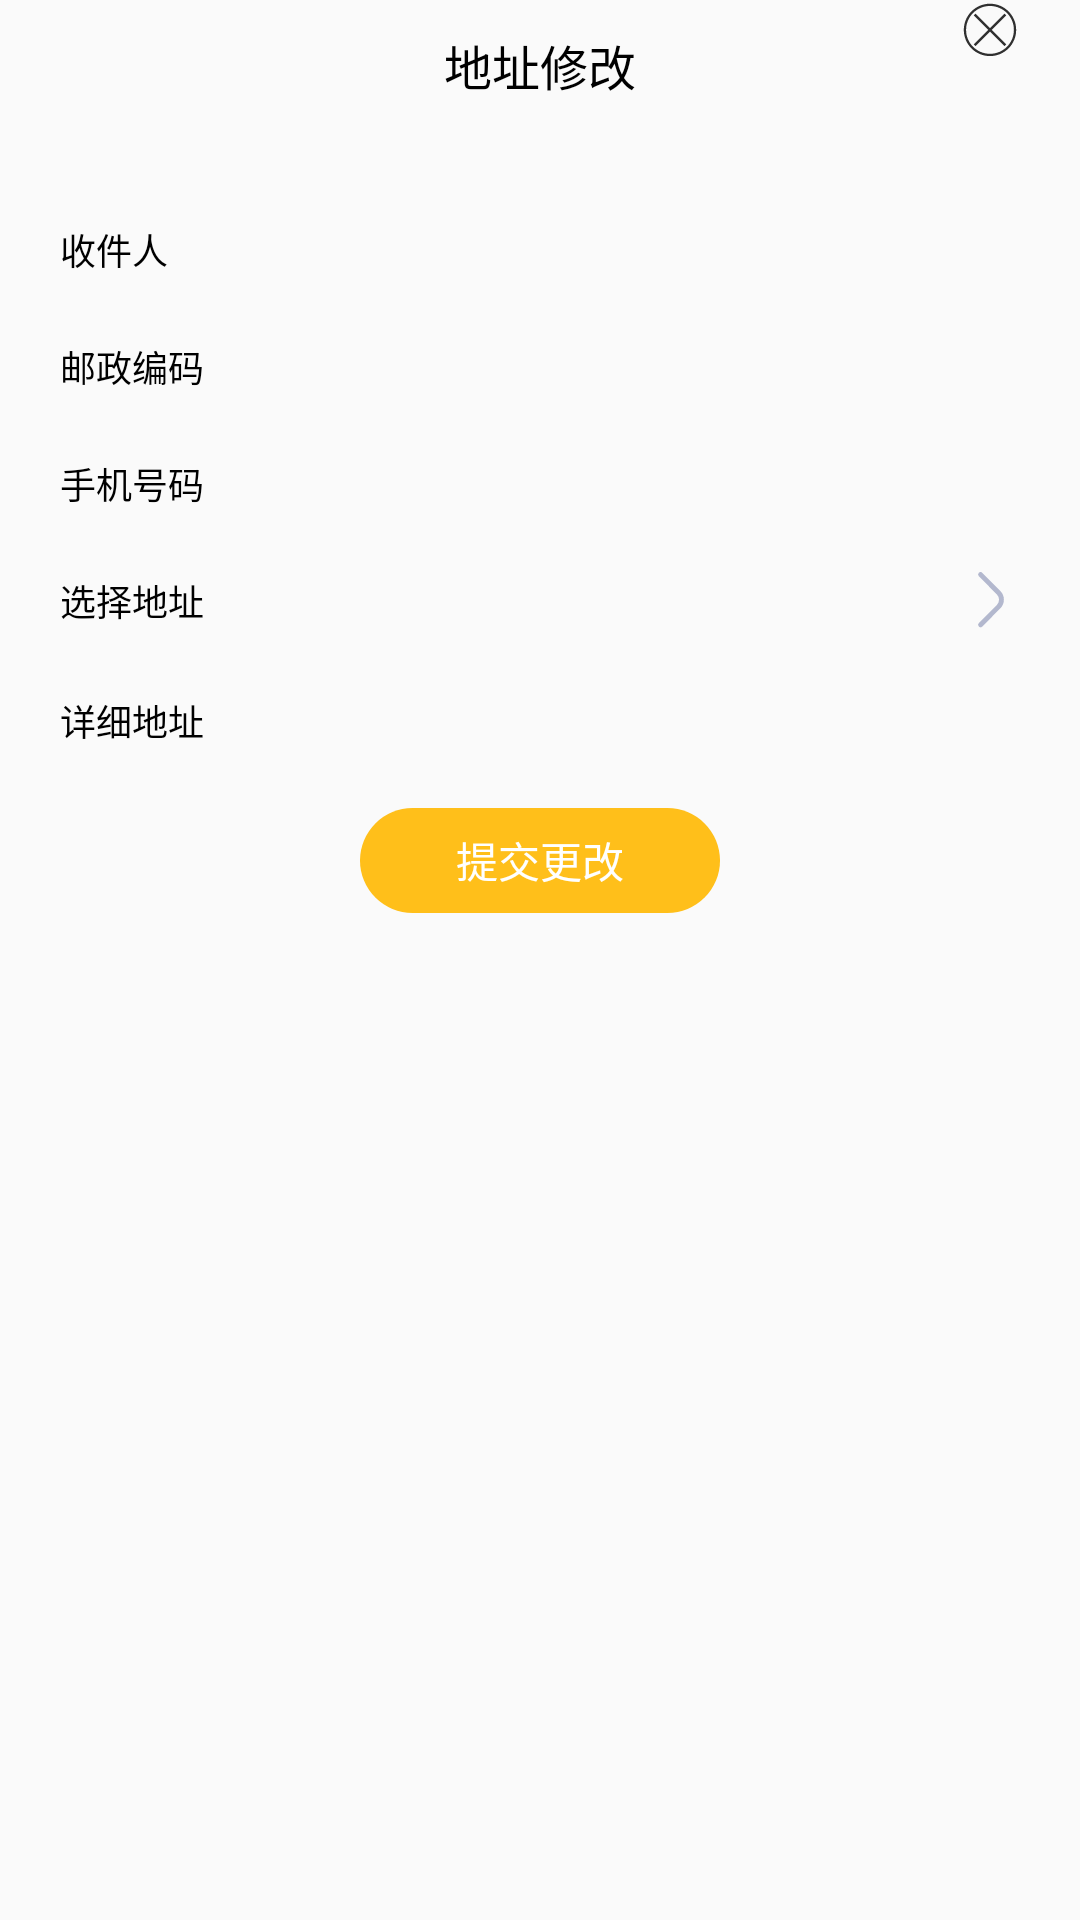

Screen size 1080×1920. Icon name, then its center in pixels as (x,y):
close round: (990,29)
right arrow: (991,599)
